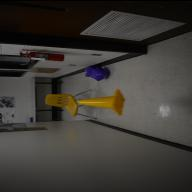cone: (77, 88, 126, 116)
cube: (88, 66, 110, 80), (84, 65, 104, 76)
